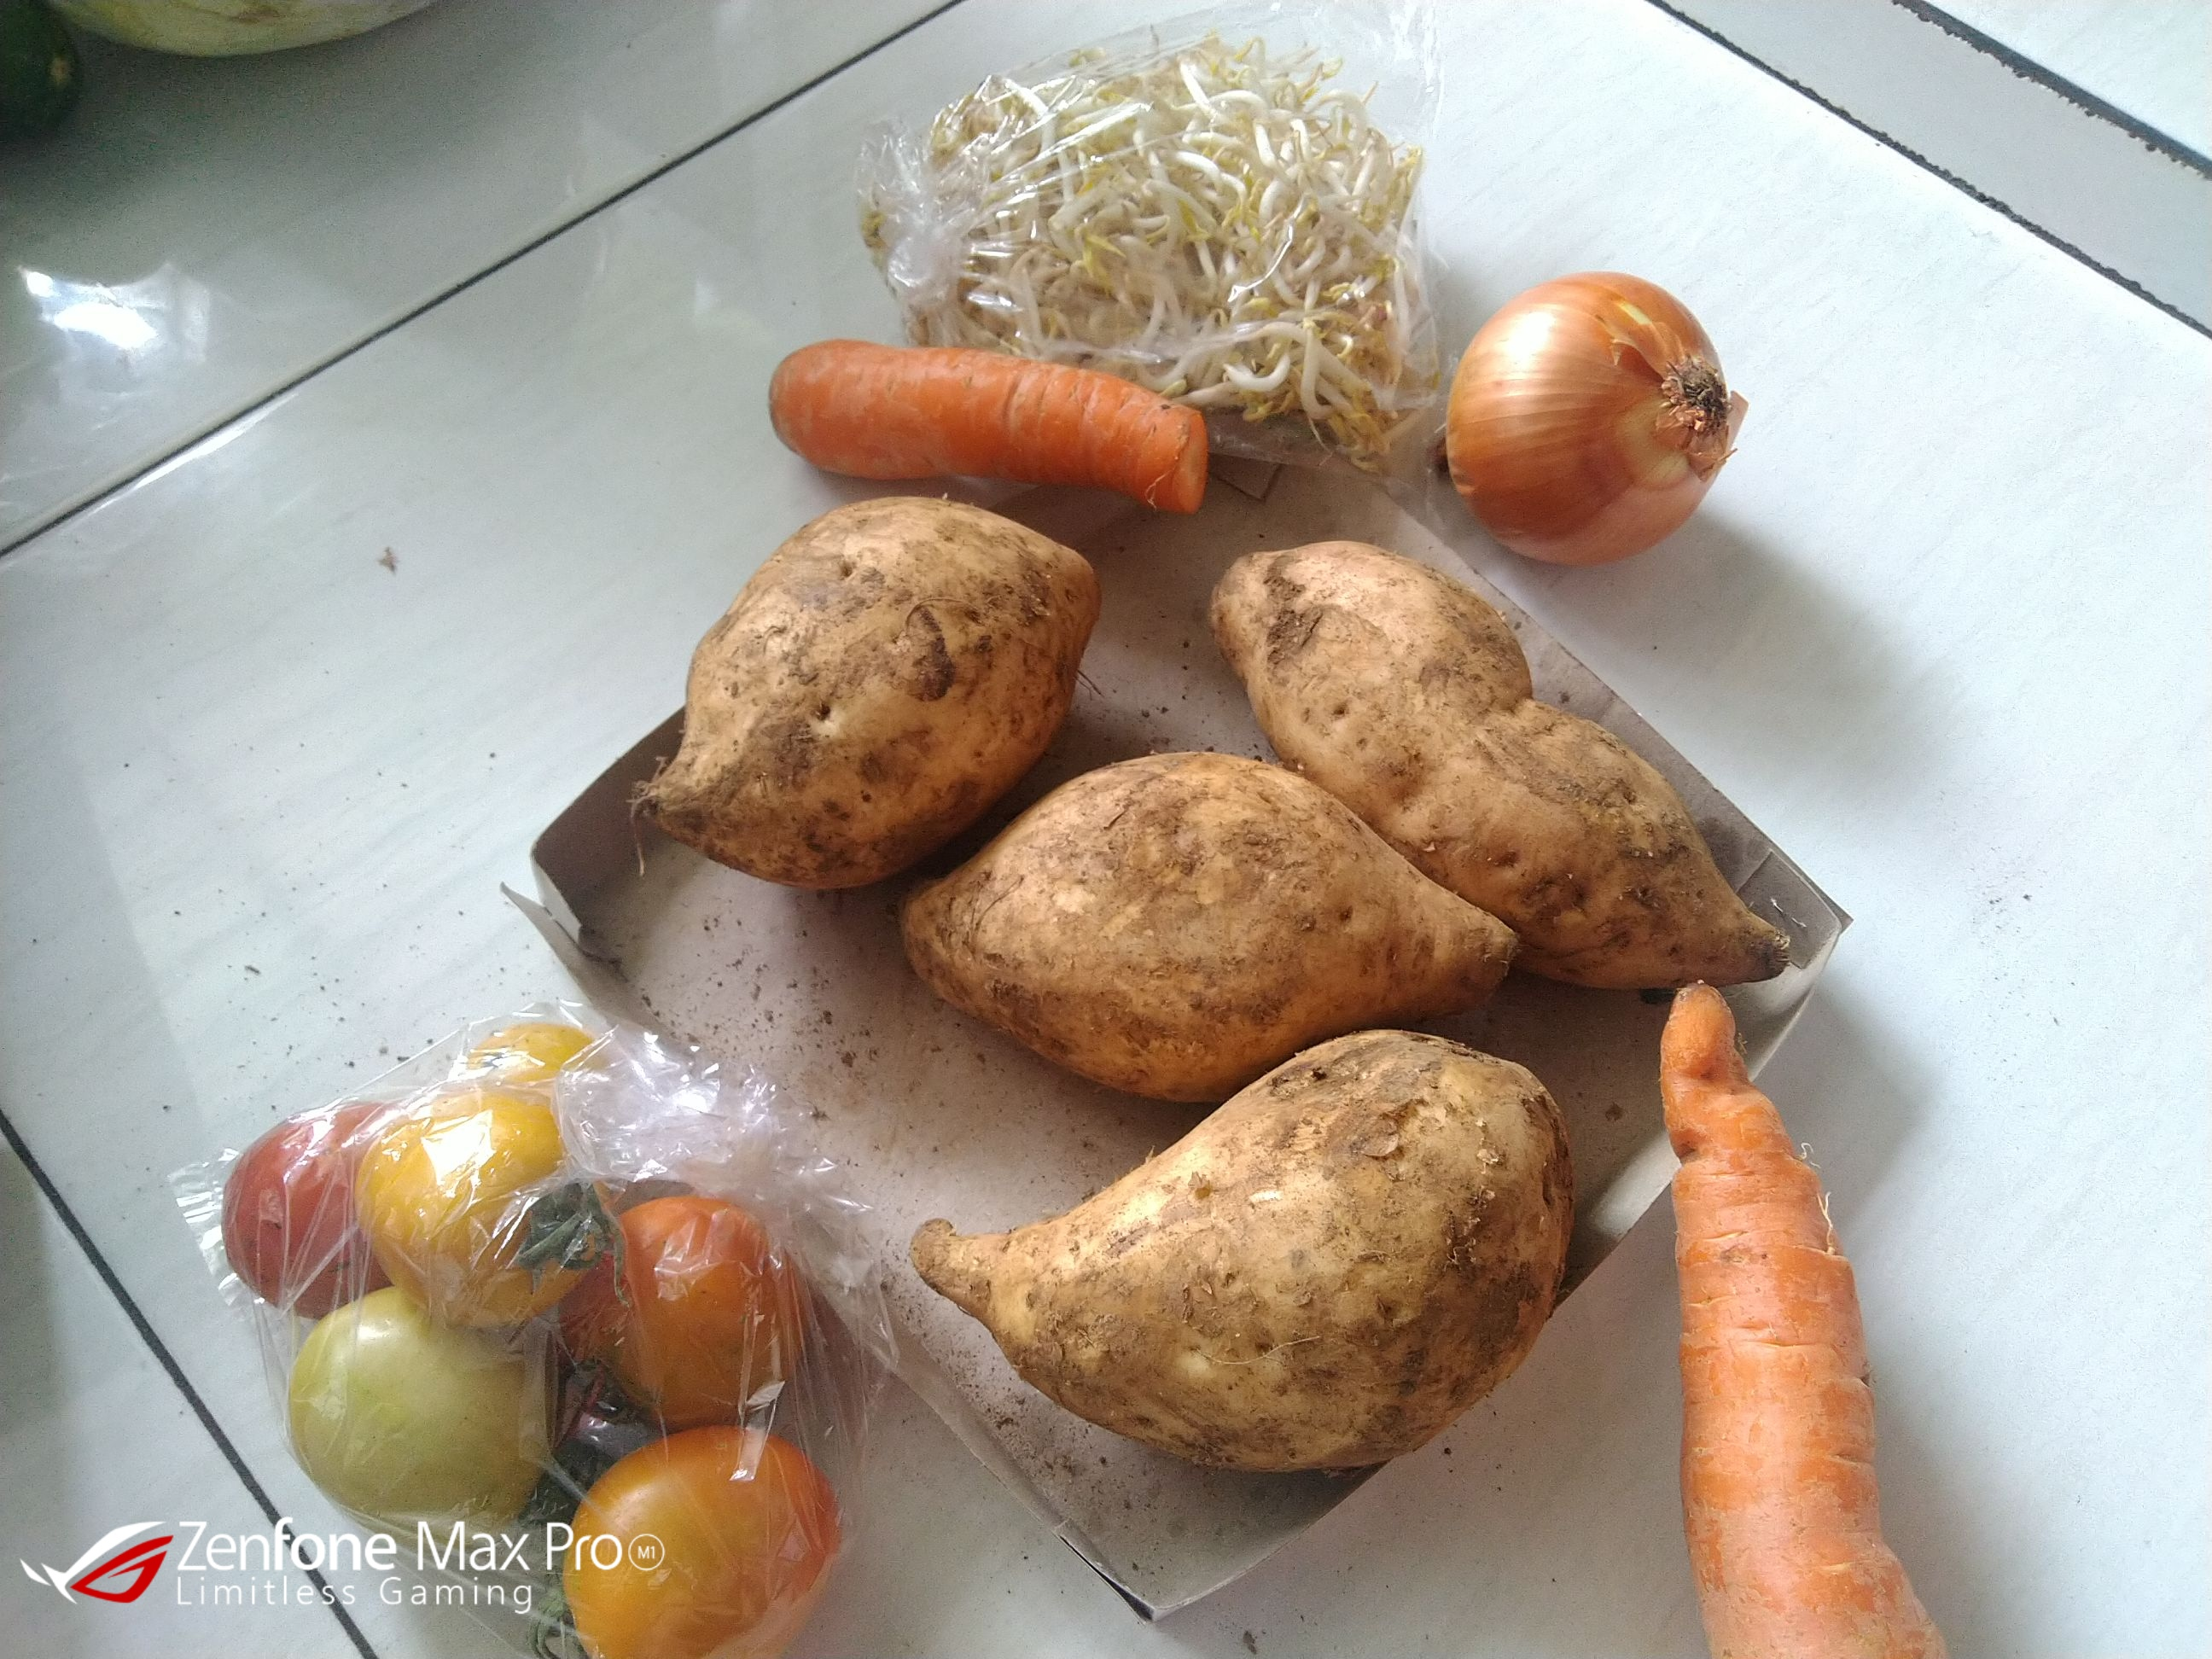ubi kuning: (900, 1021, 1590, 1497), (1188, 530, 1806, 995), (899, 742, 1521, 1107), (606, 483, 1099, 896)
